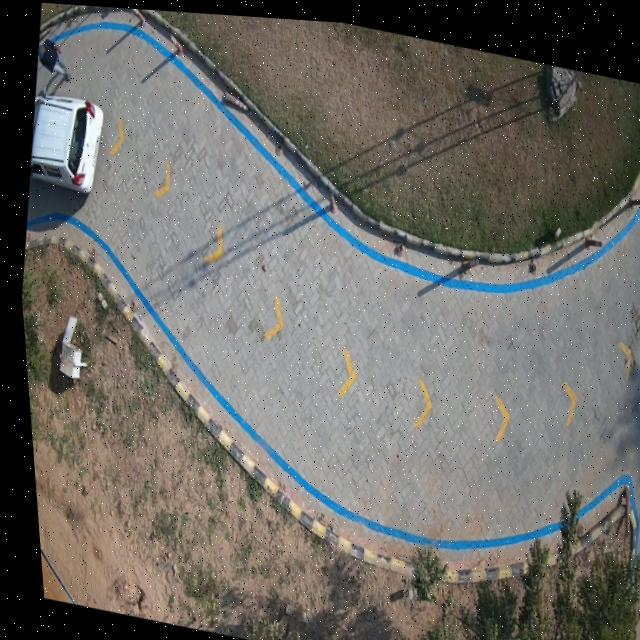car: (27, 92, 102, 194)
